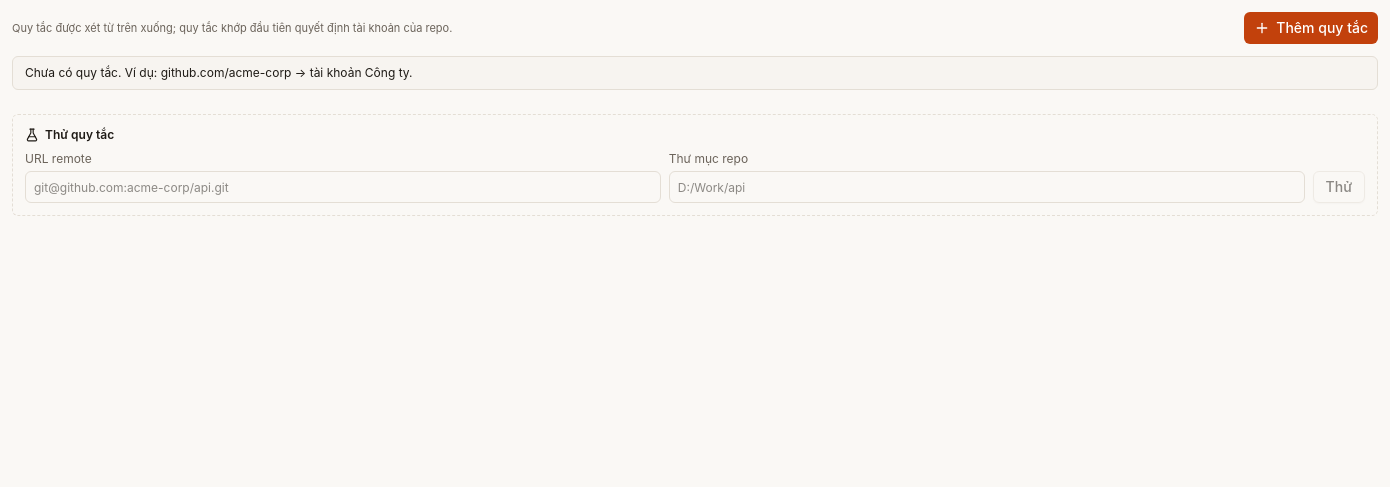
RulesTab › validates a new rule
Click the button "Thêm quy tắc" at (1311, 28), box 1244,12 -> 1378,44
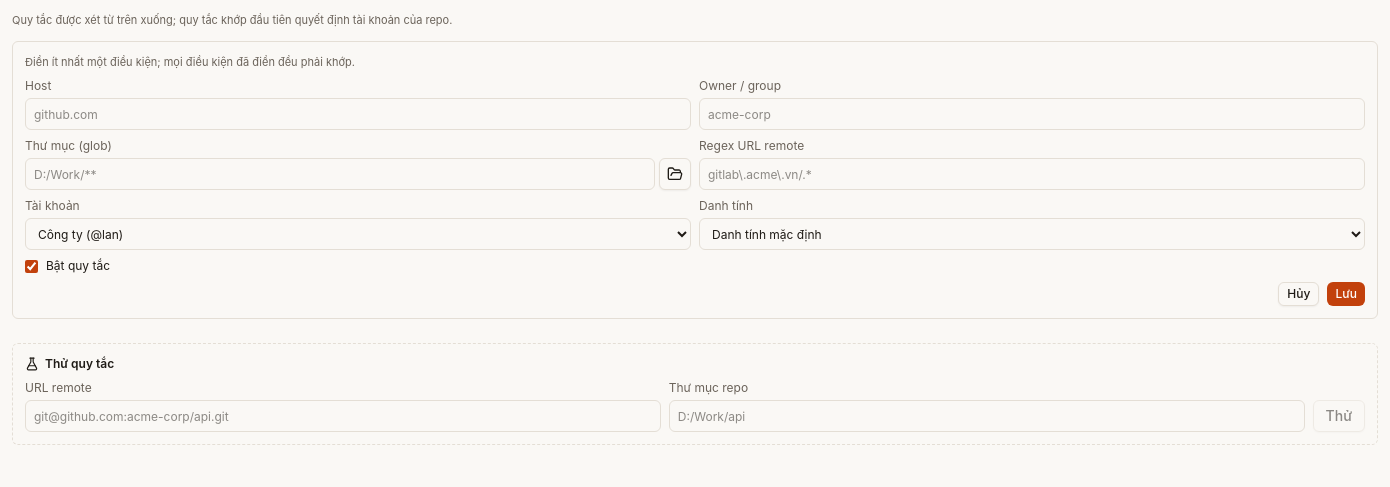
Click the button "Lưu" at (1346, 294), box 1327,282 -> 1365,306
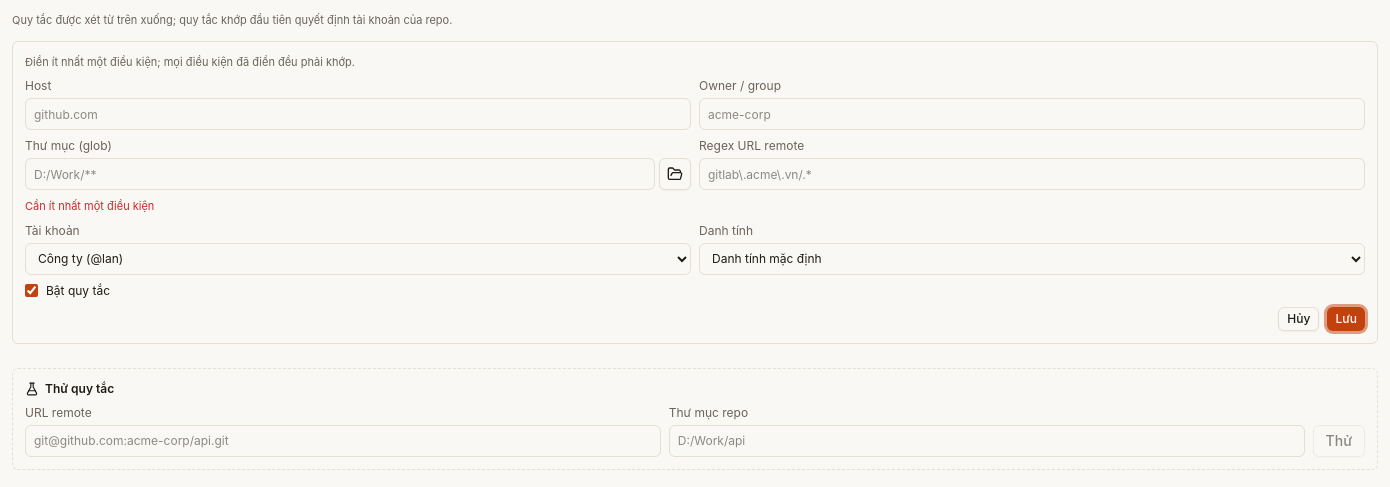
Check: the message reads "Cần ít nhất một điều kiện", box 25,199 -> 154,213
